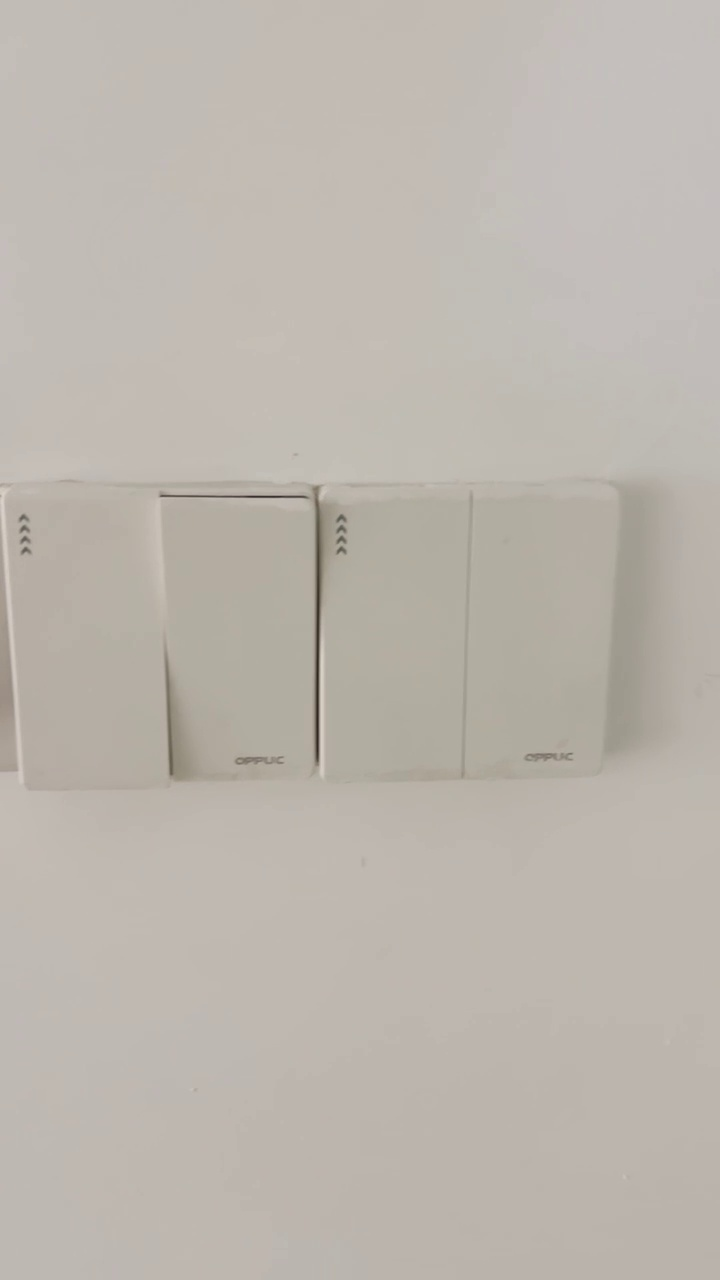button1: (5, 489, 169, 787), (166, 503, 313, 782), (324, 495, 459, 768), (476, 496, 603, 770)
